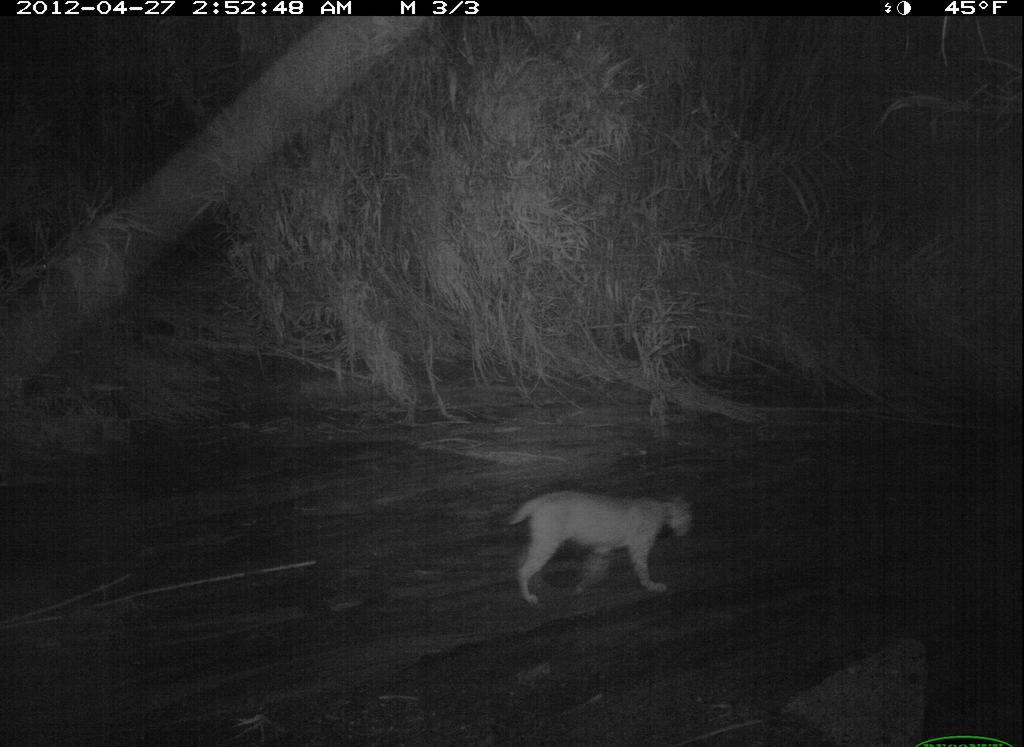bobcat: (482, 483, 719, 620)
